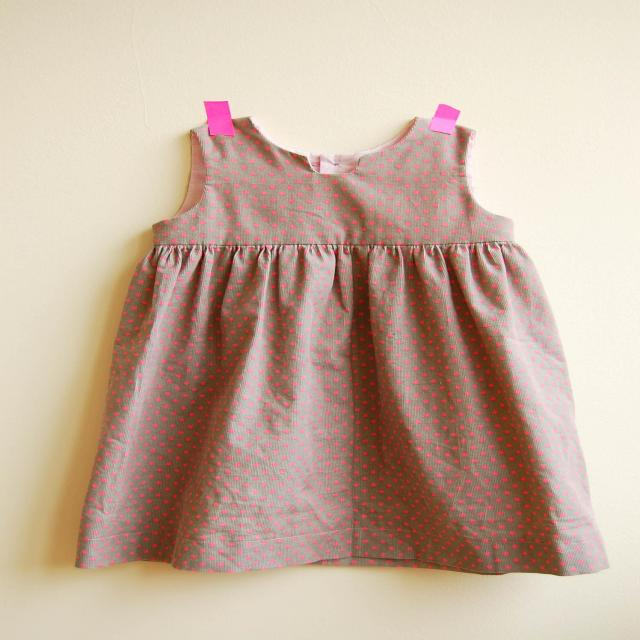Dress: (77, 118, 616, 583)
